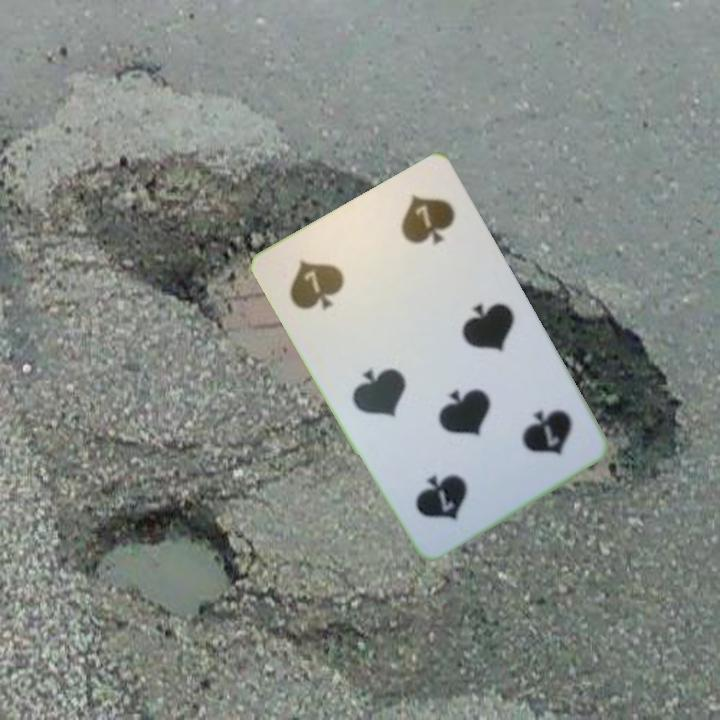s_7.png: (466, 377, 594, 499), (268, 218, 395, 340)
